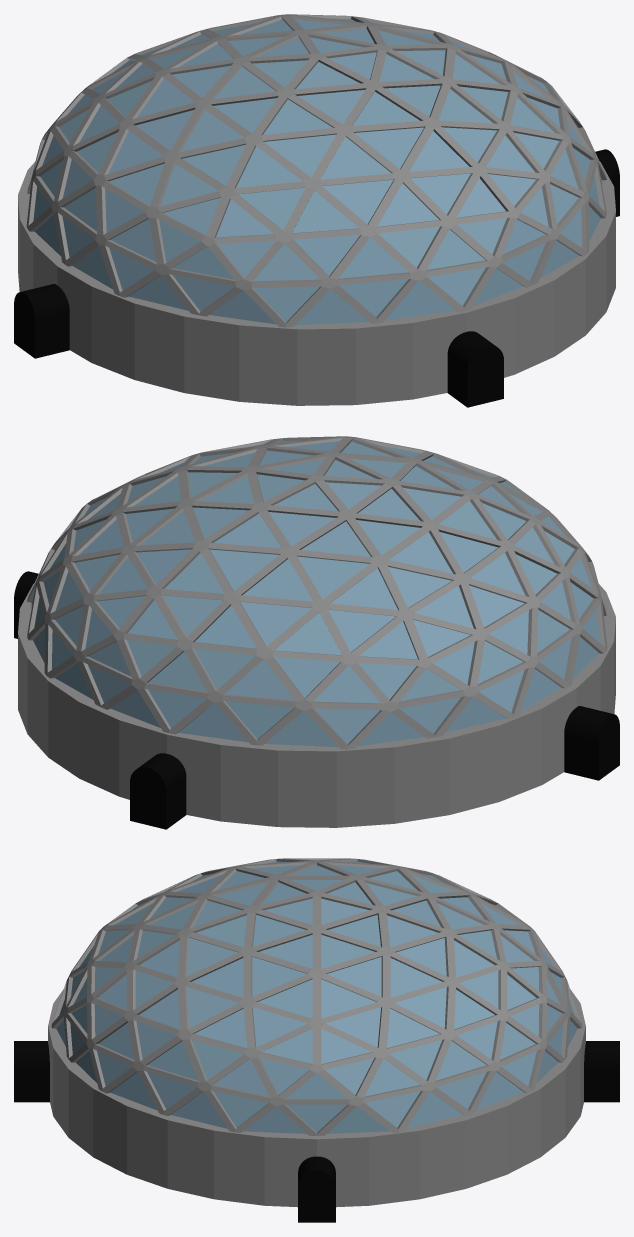
The model's file is hab large.fbx.
The picture shows the model from 3 angles, top to bottom: view 1: azimuth 30°, elevation 25°; view 2: azimuth 150°, elevation 25°; view 3: azimuth 270°, elevation 25°; orthographic projection. The views are drawn at different scales.
Parts seen in each view (by area): view 1: Dome glass, Dome frame, Cylinder, Cylinder.004, Cylinder.002, Cylinder.003; view 2: Dome glass, Dome frame, Cylinder, Cylinder.001, Cylinder.002, Cylinder.003; view 3: Dome glass, Dome frame, Cylinder, Cylinder.003, Cylinder.001, Cylinder.004.
Boxes of the visible parts, box(x1,y1,x2,y2) form: Dome glass: box(33, 18, 602, 325); Dome frame: box(26, 14, 606, 327); Cylinder: box(18, 161, 615, 405); Cylinder.004: box(447, 331, 503, 407); Cylinder.002: box(14, 284, 69, 358); Cylinder.003: box(595, 149, 619, 216); Dome glass: box(31, 440, 600, 747); Dome frame: box(27, 436, 607, 749); Cylinder: box(18, 583, 615, 827); Cylinder.001: box(130, 753, 186, 829); Cylinder.002: box(564, 706, 619, 780); Cylinder.003: box(14, 571, 38, 638); Dome glass: box(56, 861, 577, 1133); Dome frame: box(51, 858, 582, 1135); Cylinder: box(48, 989, 585, 1207); Cylinder.003: box(298, 1156, 335, 1222); Cylinder.001: box(584, 1041, 619, 1102); Cylinder.004: box(14, 1041, 49, 1102).
Size of the model in its own units: 1600 by 584 by 1600.
